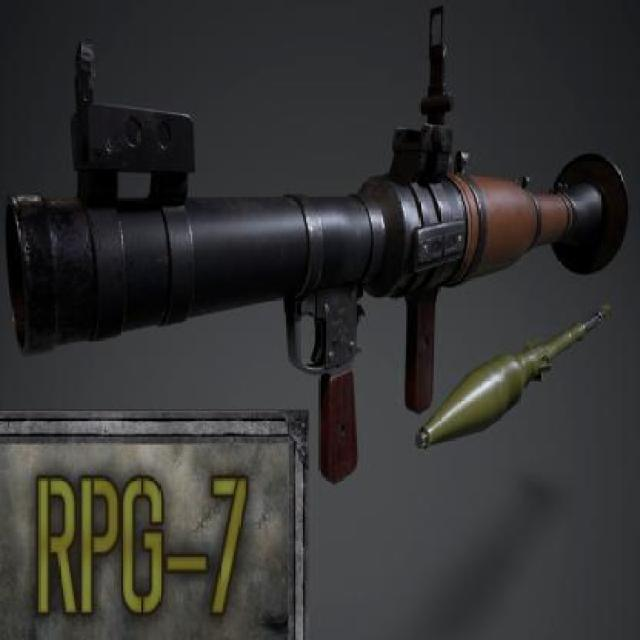weapon: (10, 14, 638, 441)
